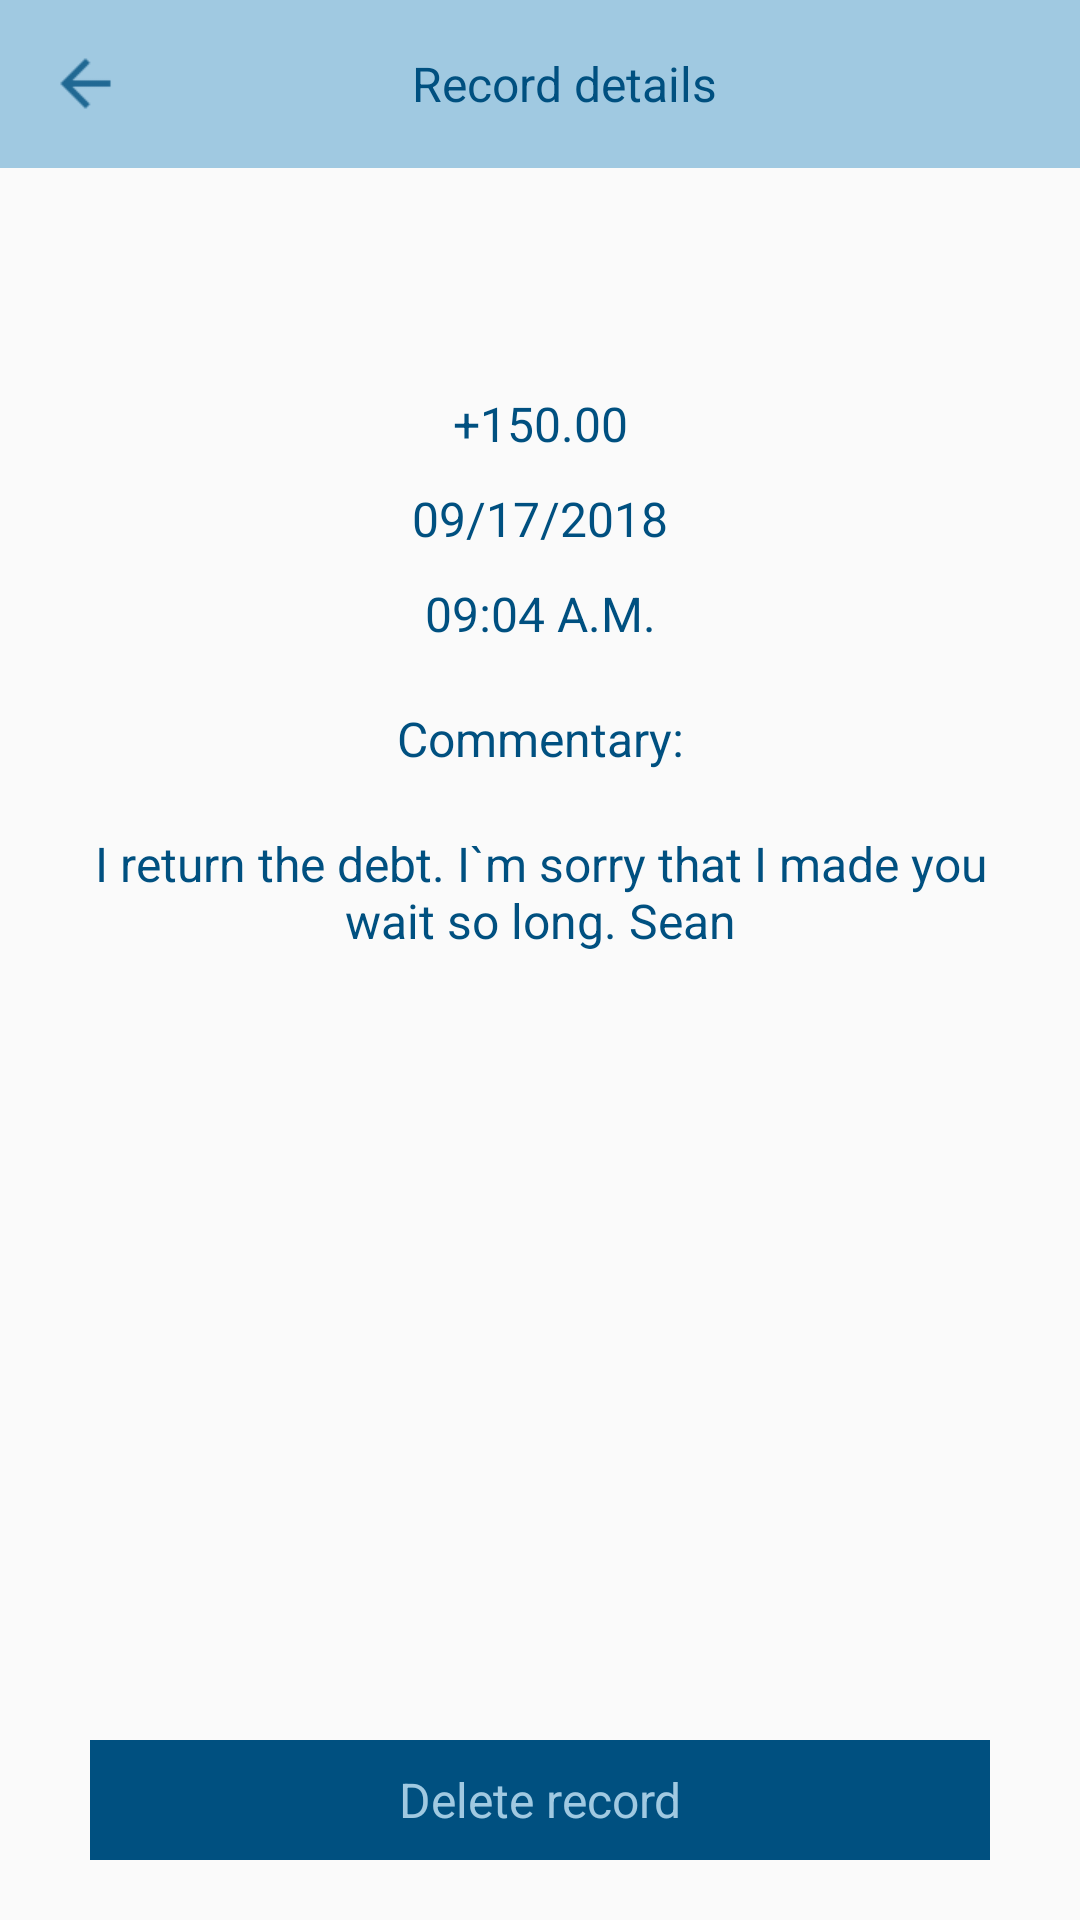

Icon bounding boxes for this 1080*1920 phone screenshot, format (x1, y1, x2, y2):
arrow back: (60, 58, 111, 109)
